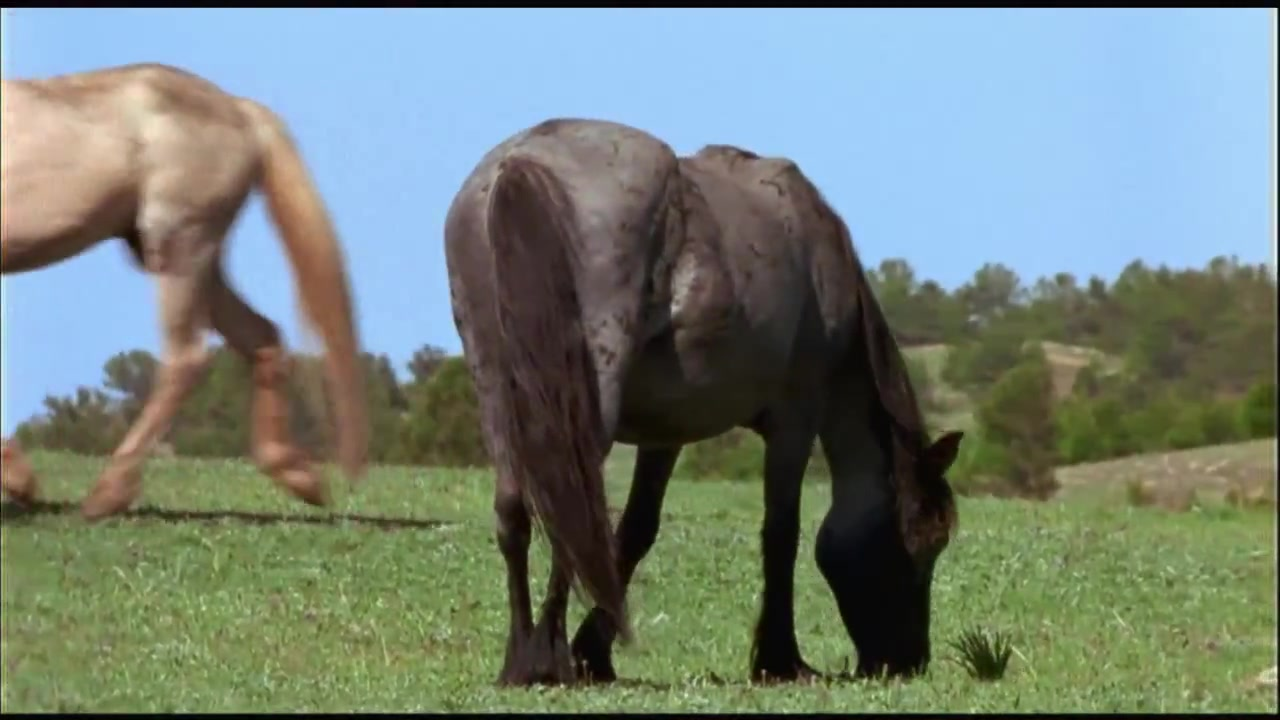horse: (444, 115, 965, 692)
